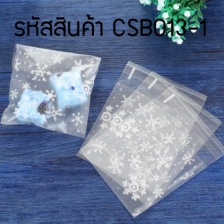snack: (0, 37, 104, 142)
